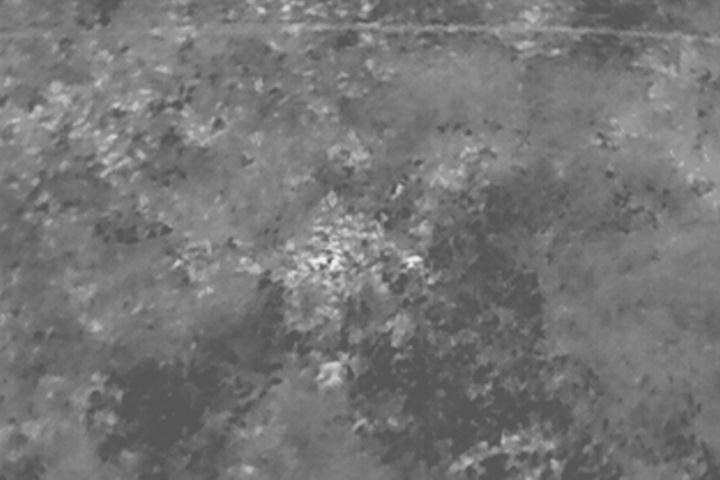landmine: (306, 248, 336, 276)
